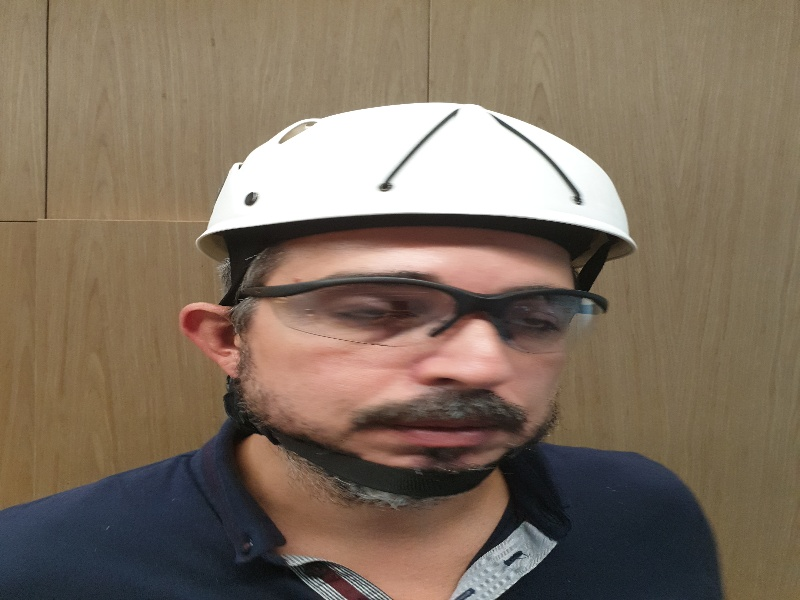Baret: (195, 100, 636, 248)
Gozluk: (219, 275, 612, 364)
